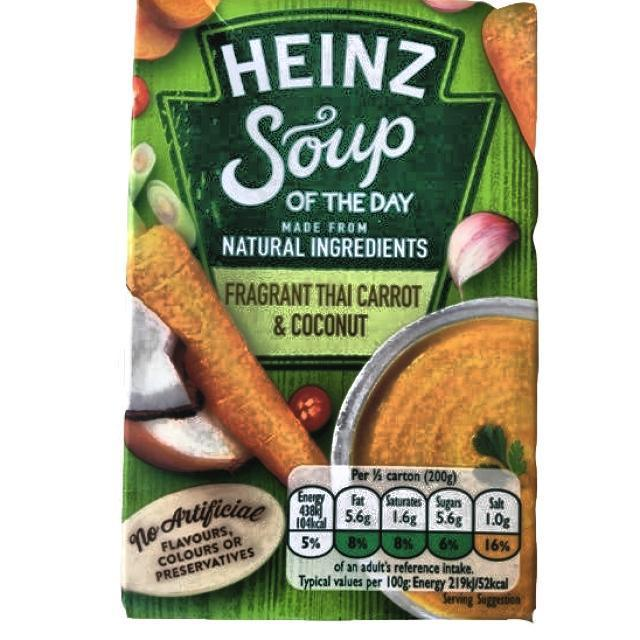cardboard: (121, 0, 540, 620)
